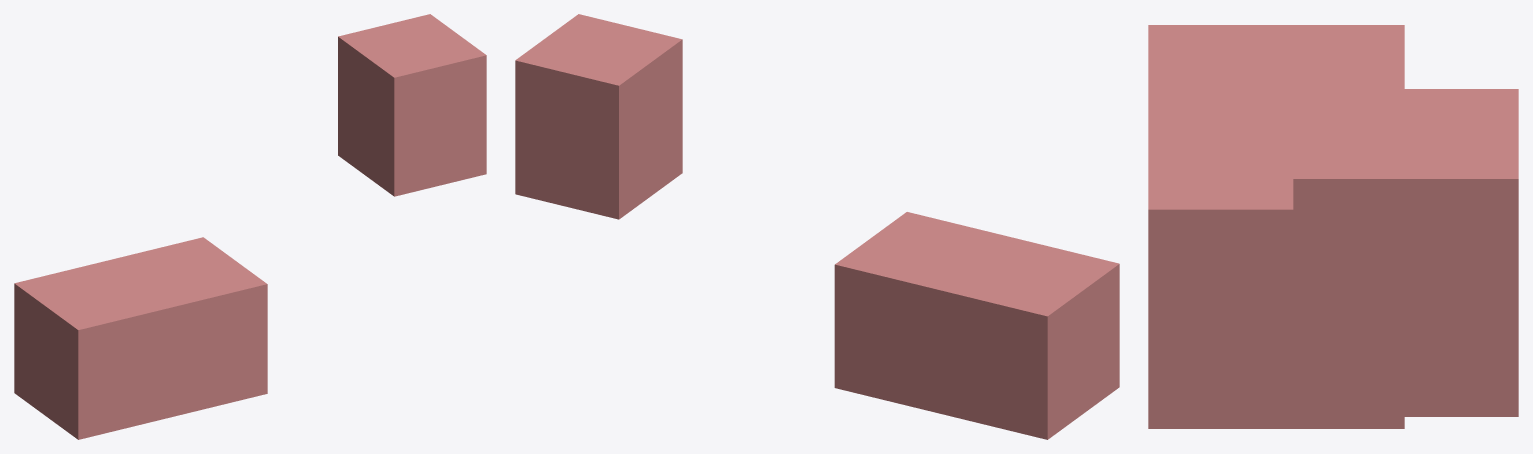
File: 199546_occ.glb
The picture shows the model from 3 angles, left to right: view 1: azimuth 30°, elevation 25°; view 2: azimuth 150°, elevation 25°; view 3: azimuth 270°, elevation 25°; orthographic projection. The views are drawn at different scales.
Parts seen in each view (by area): view 1: world; view 2: world; view 3: world.
Boxes of the visible parts, x1,y1,x2,y2 form: world: (14, 14, 486, 439); world: (515, 14, 1119, 439); world: (1148, 25, 1518, 428).
Bounding box in the file's own units: 10.83 × 5.81 × 3.91.
